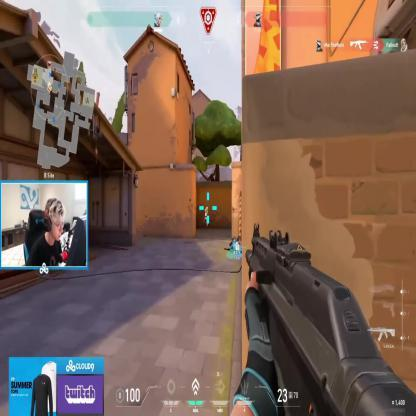enemy: (203, 204, 208, 229)
enemy_head: (206, 206, 209, 212)
